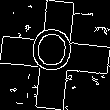O_S: (31, 28, 79, 82)
